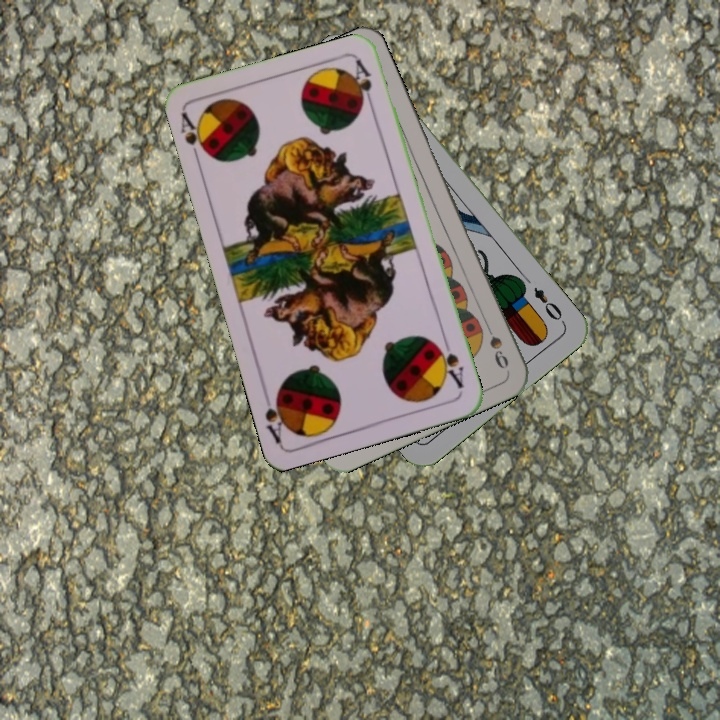EO: (529, 283, 568, 326)
S9: (479, 316, 512, 372)
SA: (176, 108, 214, 166), (432, 335, 467, 391)
